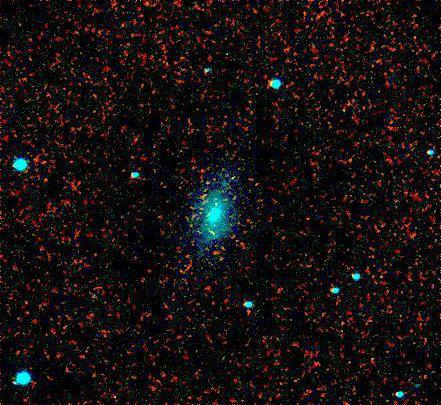star: (198, 217, 228, 247)
